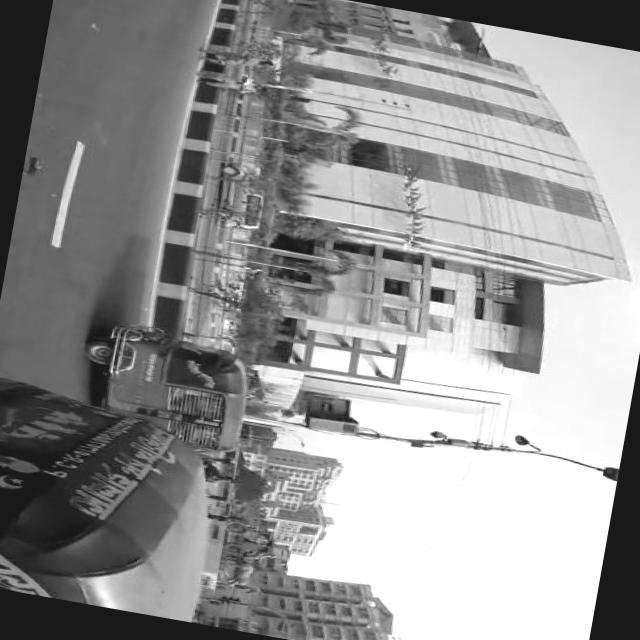motorcycle: (0, 372, 235, 624), (75, 318, 256, 462)
truck: (218, 163, 273, 236)
